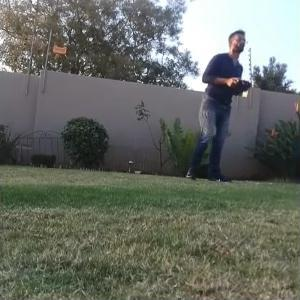follow: (181, 23, 253, 188)
